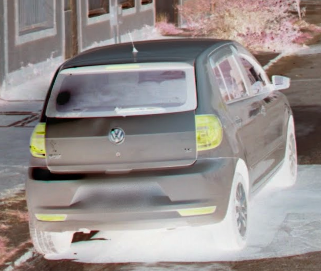car: (25, 37, 297, 260)
